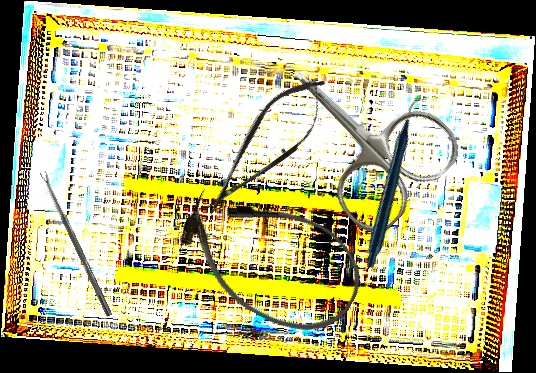Cannula: (163, 166, 378, 353)
Handpiece: (304, 95, 486, 271)
Iris Scissors: (248, 22, 470, 244)
Micro Scissor: (187, 62, 344, 231)
Surgical Spoon: (39, 169, 114, 318)
